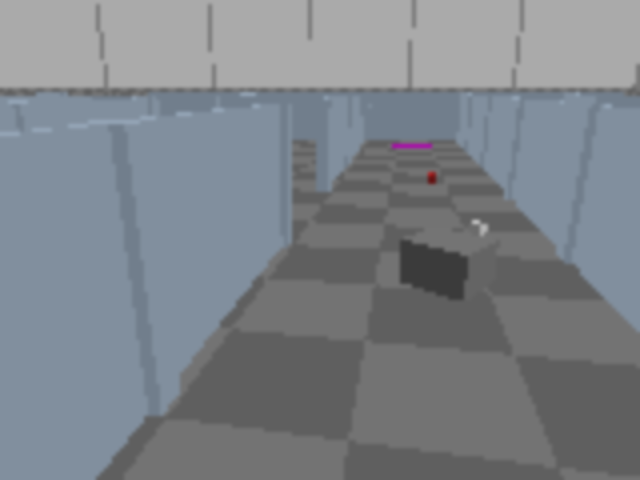puck: (467, 221, 487, 238)
